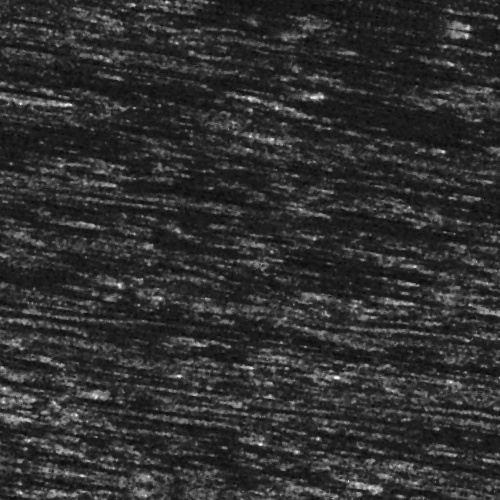object: (268, 194, 331, 207), (241, 78, 314, 89), (354, 0, 417, 4), (371, 459, 412, 462)
shadow: (123, 194, 300, 207), (85, 78, 277, 89), (396, 324, 500, 333), (399, 154, 500, 161), (233, 459, 391, 462), (292, 0, 386, 4), (392, 166, 500, 169), (475, 40, 500, 49)
